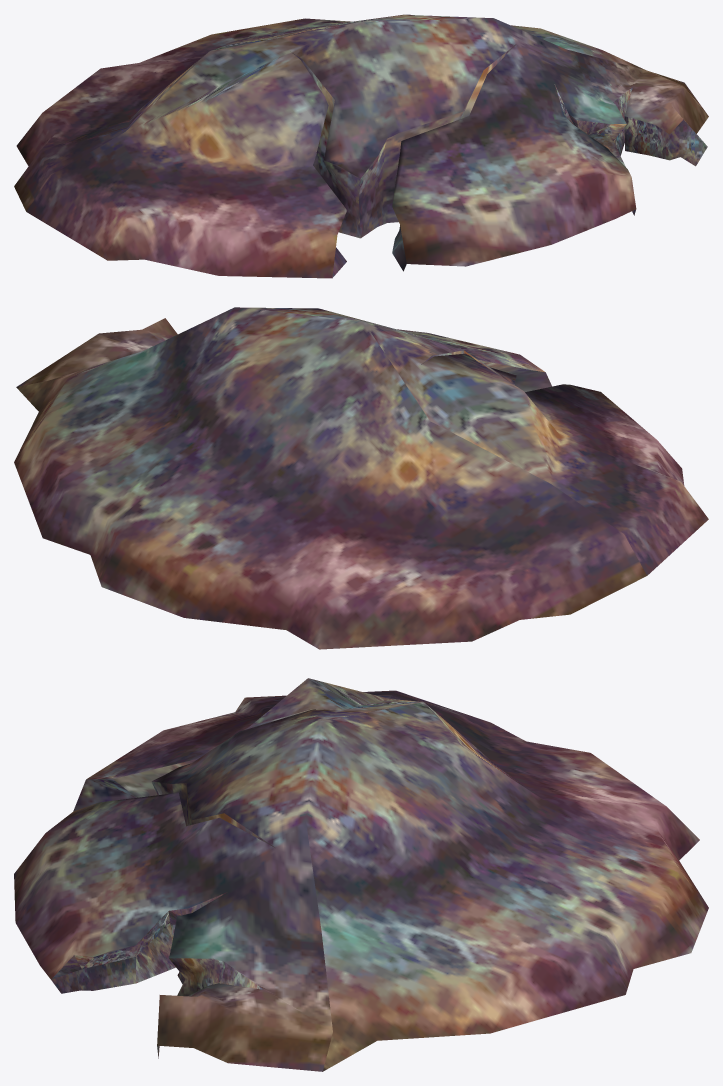
File: S_Plant_Red010.FBX
The picture shows the model from 3 angles, top to bottom: view 1: azimuth 30°, elevation 25°; view 2: azimuth 150°, elevation 25°; view 3: azimuth 270°, elevation 25°; orthographic projection. The views are drawn at different scales.
Visible parts, largest first — view 1: S_Plant_Red010; view 2: S_Plant_Red010; view 3: S_Plant_Red010.
Part boxes in pixels (x1,y1,x2,y2): S_Plant_Red010: (14, 14, 708, 278); S_Plant_Red010: (14, 307, 708, 649); S_Plant_Red010: (14, 678, 708, 1071).
Bounding box in the file's own units: 677 × 556 × 177.
